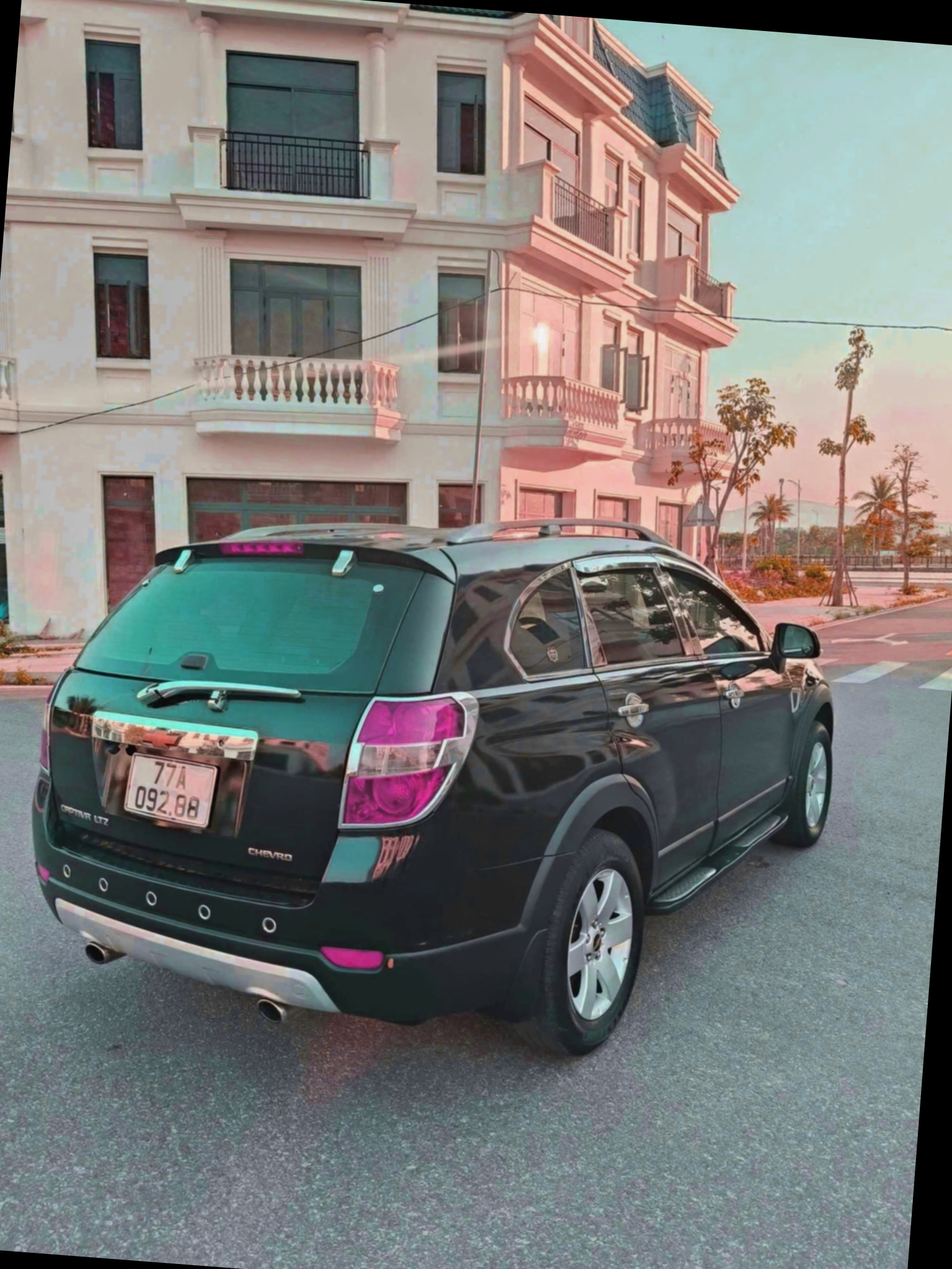Bien-so: (147, 770, 234, 836)
